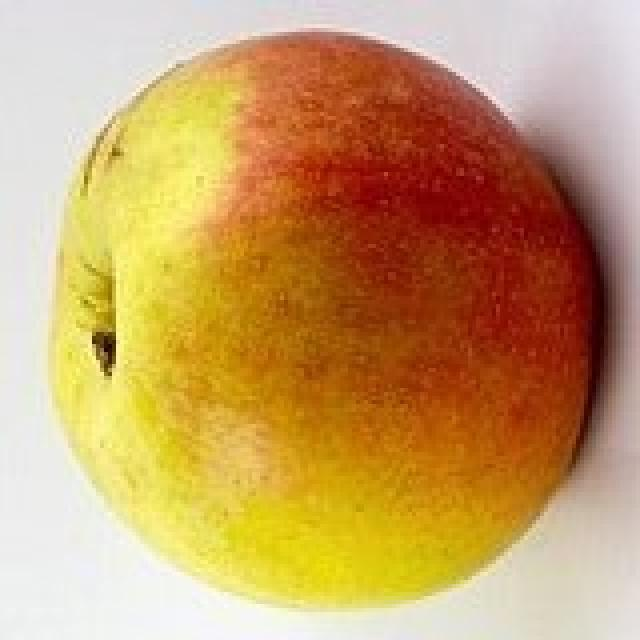75-_ripeness: (48, 35, 610, 608)
